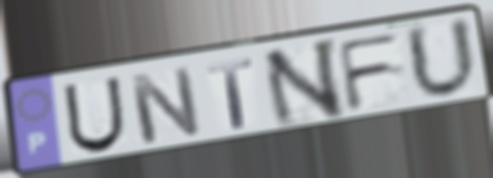F: (334, 29, 405, 115)
N: (259, 34, 347, 131), (125, 64, 205, 147)
T: (205, 55, 257, 131)
U: (402, 14, 482, 102), (60, 74, 128, 156)
